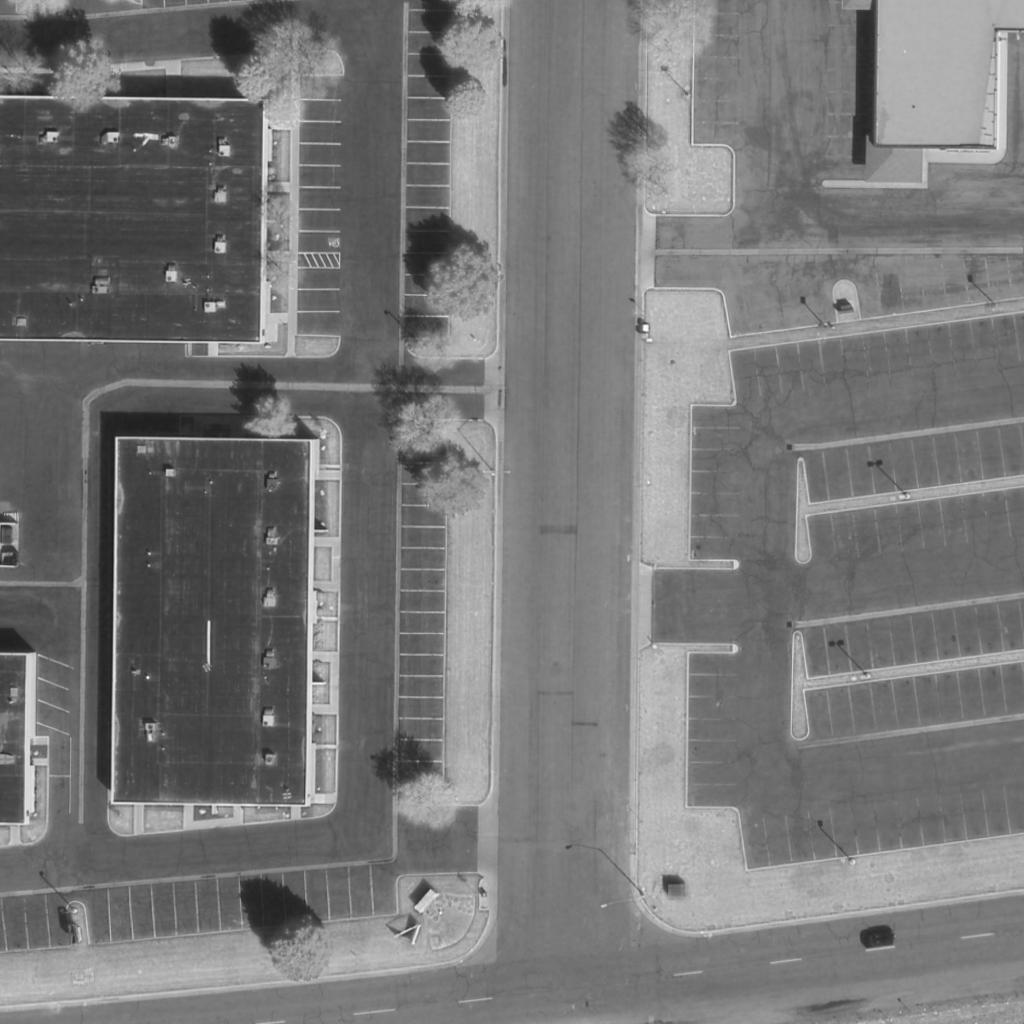vehicle: (862, 931, 896, 949)
